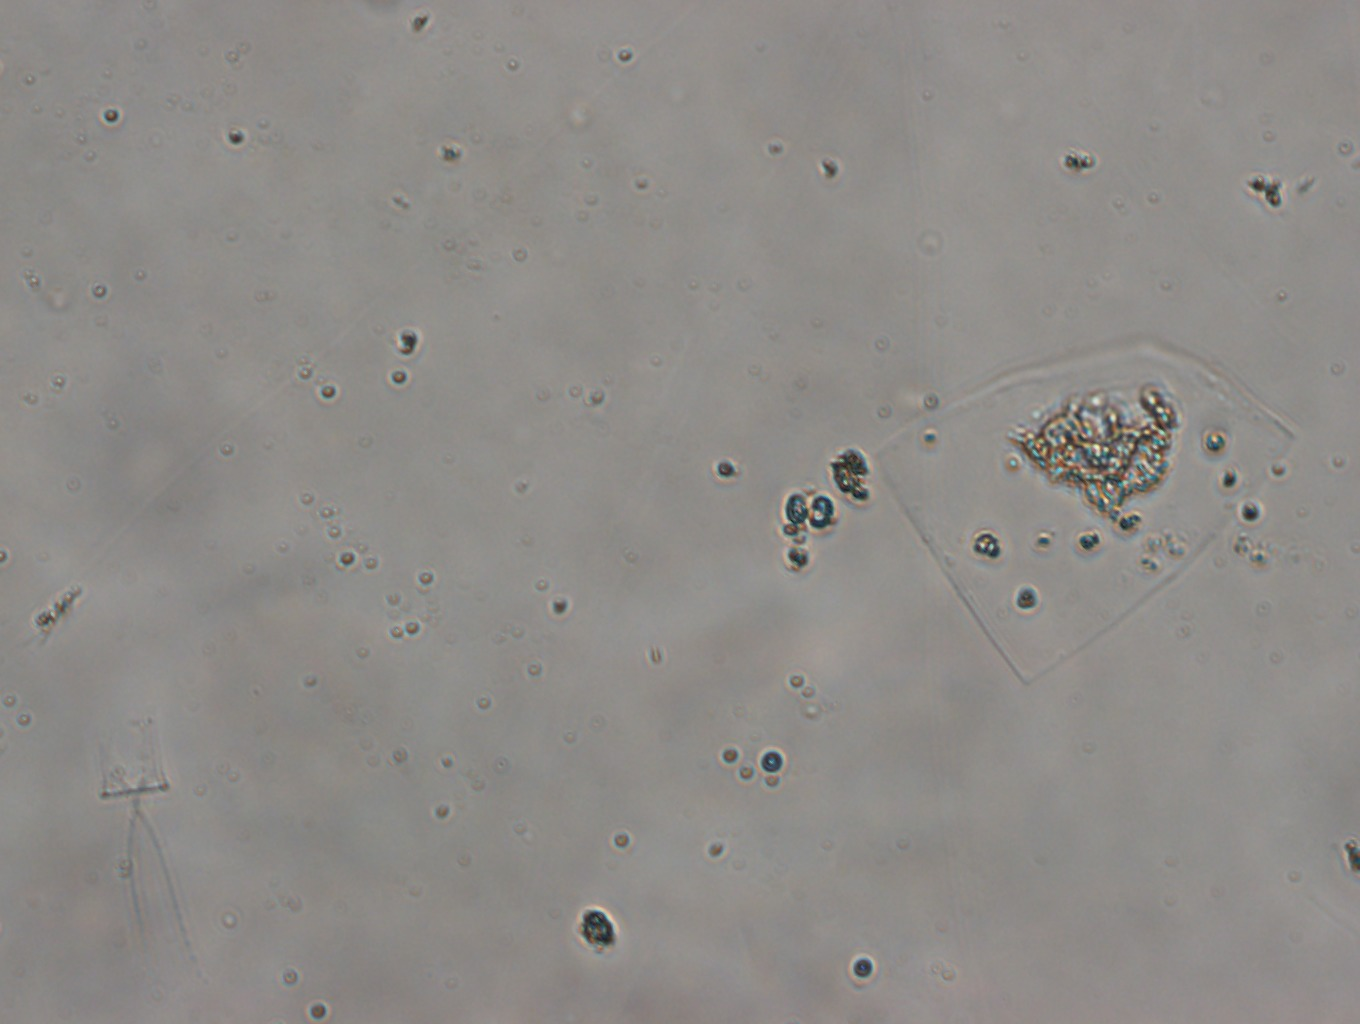helicotheca: (863, 331, 1299, 691)
